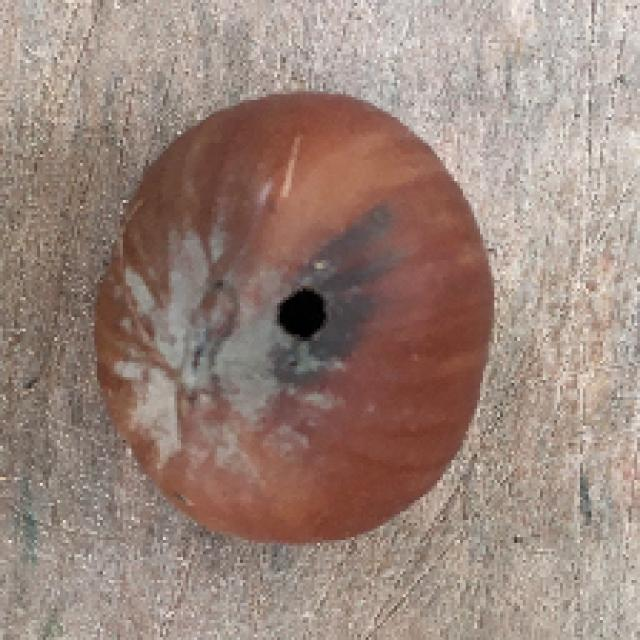damagedHazelnut: (84, 89, 498, 548)
